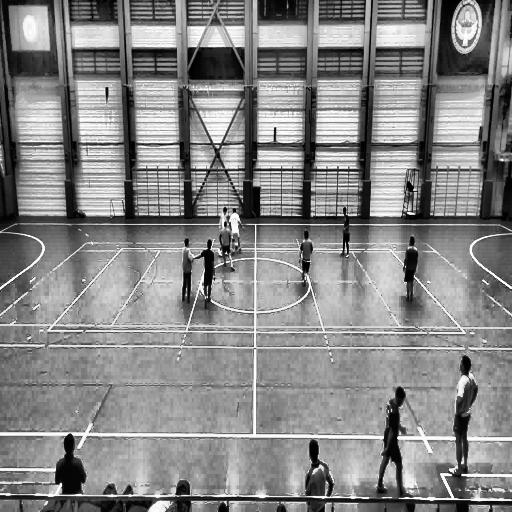ball: (233, 242, 241, 255)
player: (447, 354, 477, 475), (376, 385, 405, 497), (305, 440, 334, 512), (198, 238, 216, 306), (182, 237, 200, 304), (403, 234, 418, 302), (220, 219, 236, 273), (300, 229, 313, 287), (229, 208, 242, 253), (218, 206, 229, 255), (340, 209, 350, 258)
